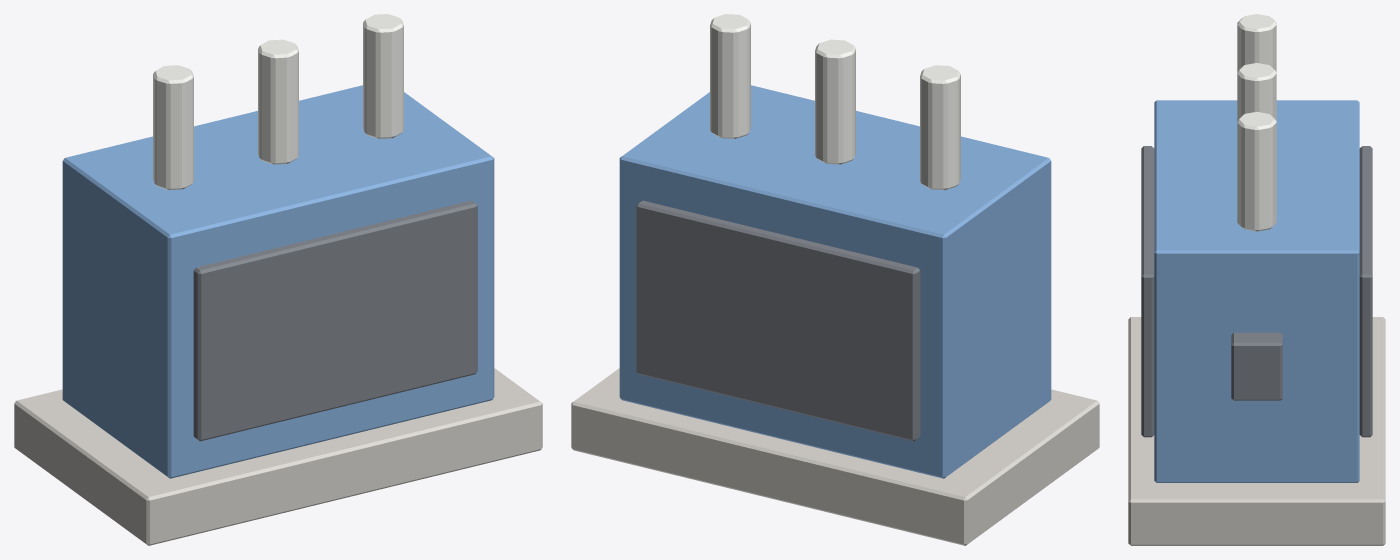
File: 工业_变压器_01.fbx
3 views of the same model, side by side, from view 1: azimuth 30°, elevation 25°; view 2: azimuth 150°, elevation 25°; view 3: azimuth 270°, elevation 25° (orthographic). The views are drawn at different scales.
Parts seen in each view (by area): view 1: 本体, 散热片, 基座.004, 套管; view 2: 本体, 散热片, 基座.004, 套管; view 3: 本体, 基座.004, 套管, 散热片, 接线盒.
Boxes of the visible parts, left/top/right/bottom form: 本体: left=62, top=85, right=494, bottom=478; 散热片: left=193, top=200, right=477, bottom=441; 基座.004: left=14, top=368, right=542, bottom=545; 套管: left=153, top=14, right=403, bottom=190; 本体: left=619, top=85, right=1051, bottom=478; 散热片: left=636, top=200, right=920, bottom=441; 基座.004: left=571, top=368, right=1099, bottom=545; 套管: left=710, top=14, right=960, bottom=190; 本体: left=1154, top=100, right=1359, bottom=482; 基座.004: left=1128, top=317, right=1385, bottom=545; 套管: left=1237, top=14, right=1276, bottom=231; 散热片: left=1141, top=146, right=1372, bottom=437; 接线盒: left=1231, top=332, right=1282, bottom=400.
Size of the model in its own units: 340 by 330 by 200.
